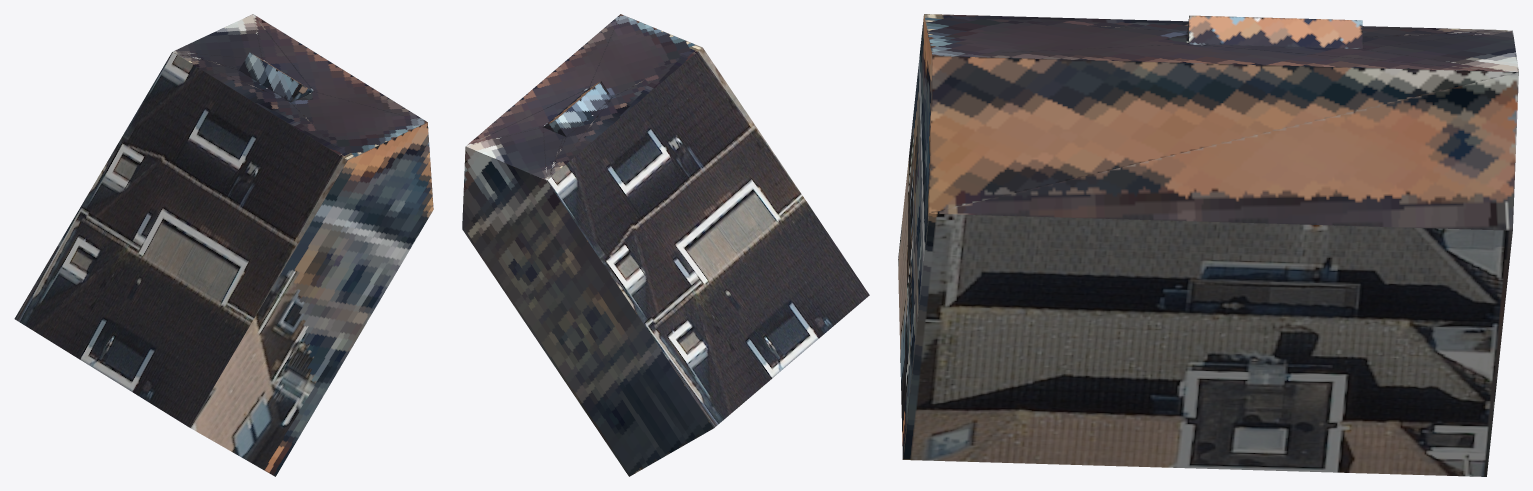
The picture shows the model from 3 angles, left to right: view 1: azimuth 30°, elevation 25°; view 2: azimuth 150°, elevation 25°; view 3: azimuth 270°, elevation 25°; orthographic projection. The views are drawn at different scales.
Visible parts, largest first — view 1: BAG_0599100000688735 (×4); view 2: BAG_0599100000688735 (×4); view 3: BAG_0599100000688735 (×4).
Part boxes in pixels (bbox=[...]): BAG_0599100000688735 (×4): bbox=[14, 14, 433, 476]; BAG_0599100000688735 (×4): bbox=[462, 14, 869, 476]; BAG_0599100000688735 (×4): bbox=[898, 14, 1518, 476].
Size of the model in its own units: 10.79 by 12.79 by 12.76.
4 materials, 4 textured.
